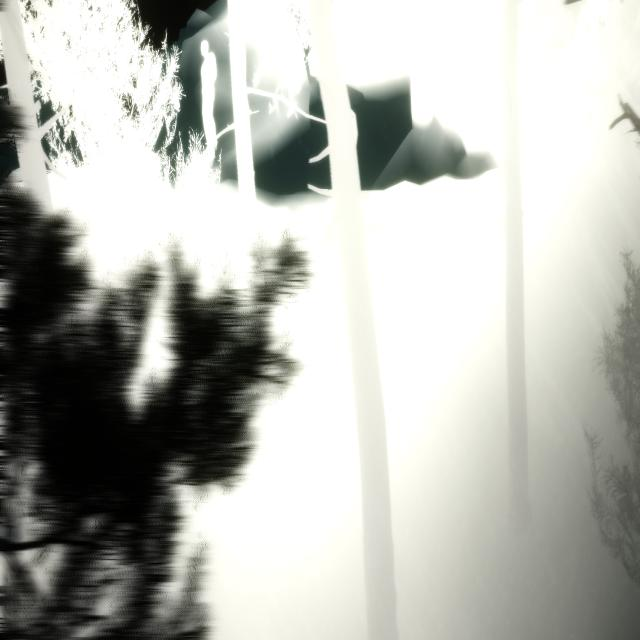Human: (198, 37, 219, 173)
